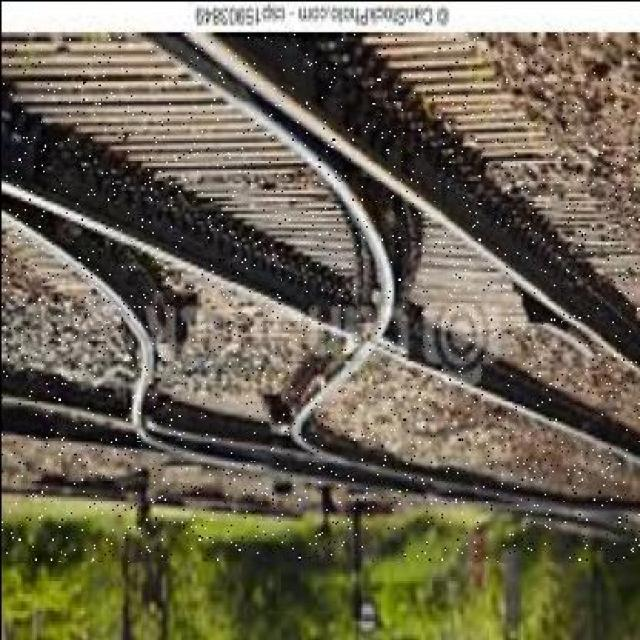rail: (0, 32, 640, 559)
